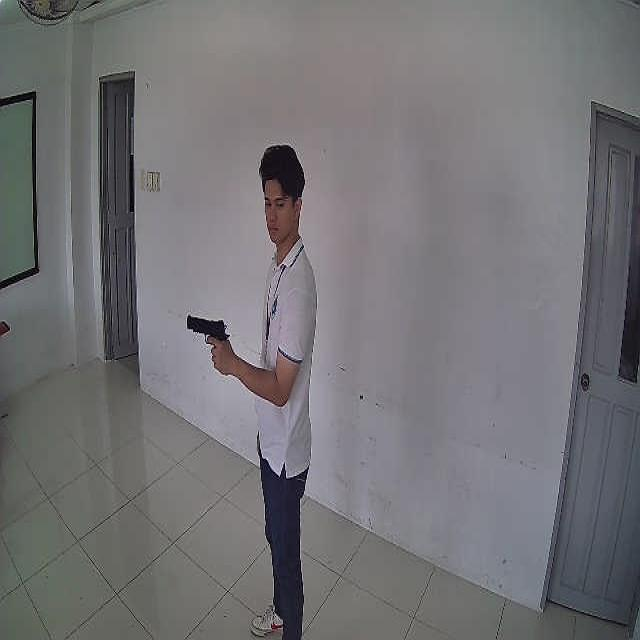pistol: (185, 314, 230, 346)
